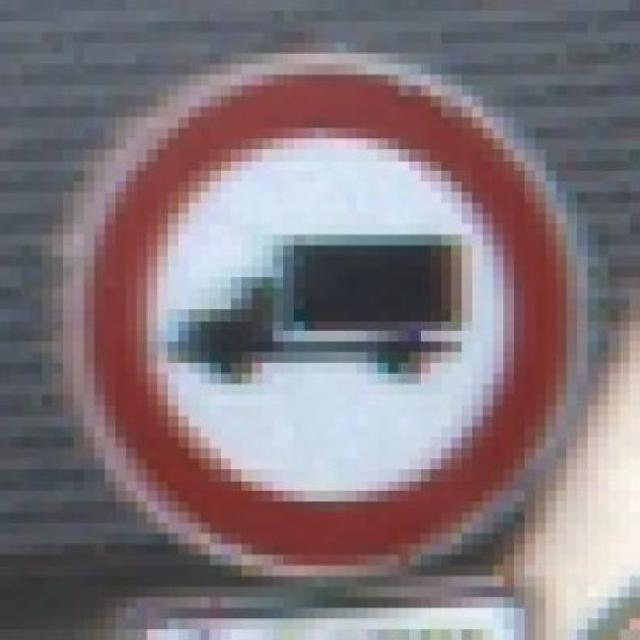Truck traffic is prohibited: (42, 42, 609, 598)
